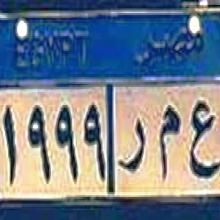1: (3, 107, 18, 186)
9: (55, 105, 77, 177), (28, 109, 50, 180), (83, 102, 103, 178)
ain: (188, 94, 217, 177)
meem: (156, 104, 184, 178)
raa: (118, 115, 148, 175)
